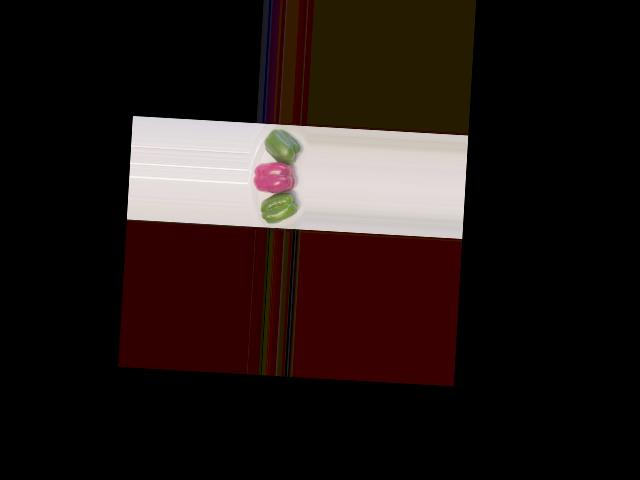bell_pepper: (258, 126, 305, 165)
